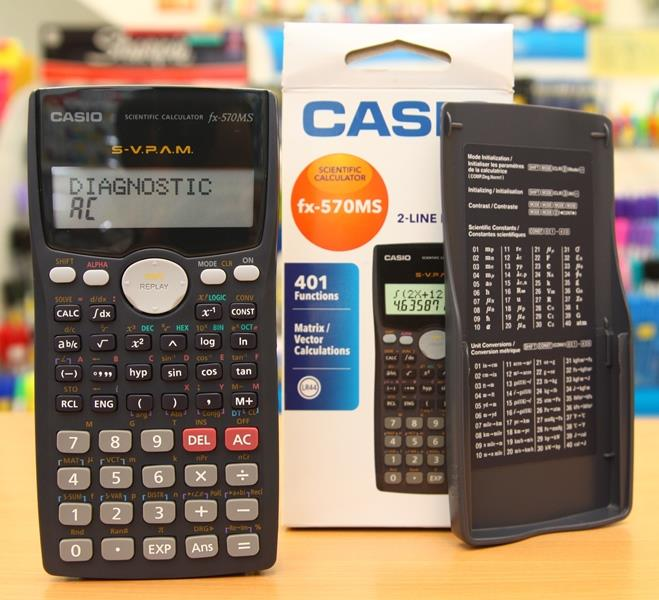Calculator: (24, 85, 285, 584), (371, 240, 451, 500)
